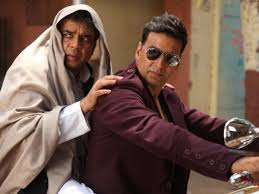Bad: (1, 4, 259, 194)
